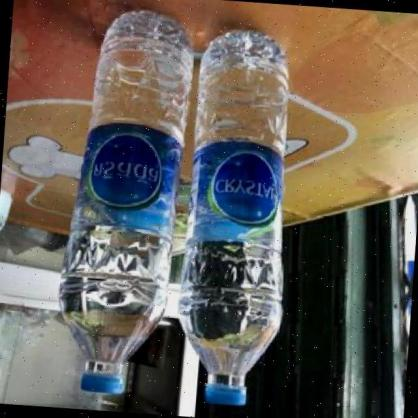bottle: (59, 9, 194, 394), (179, 26, 288, 408)
cap: (81, 370, 124, 392), (204, 383, 246, 405)
label: (75, 125, 176, 239), (192, 140, 284, 240)
